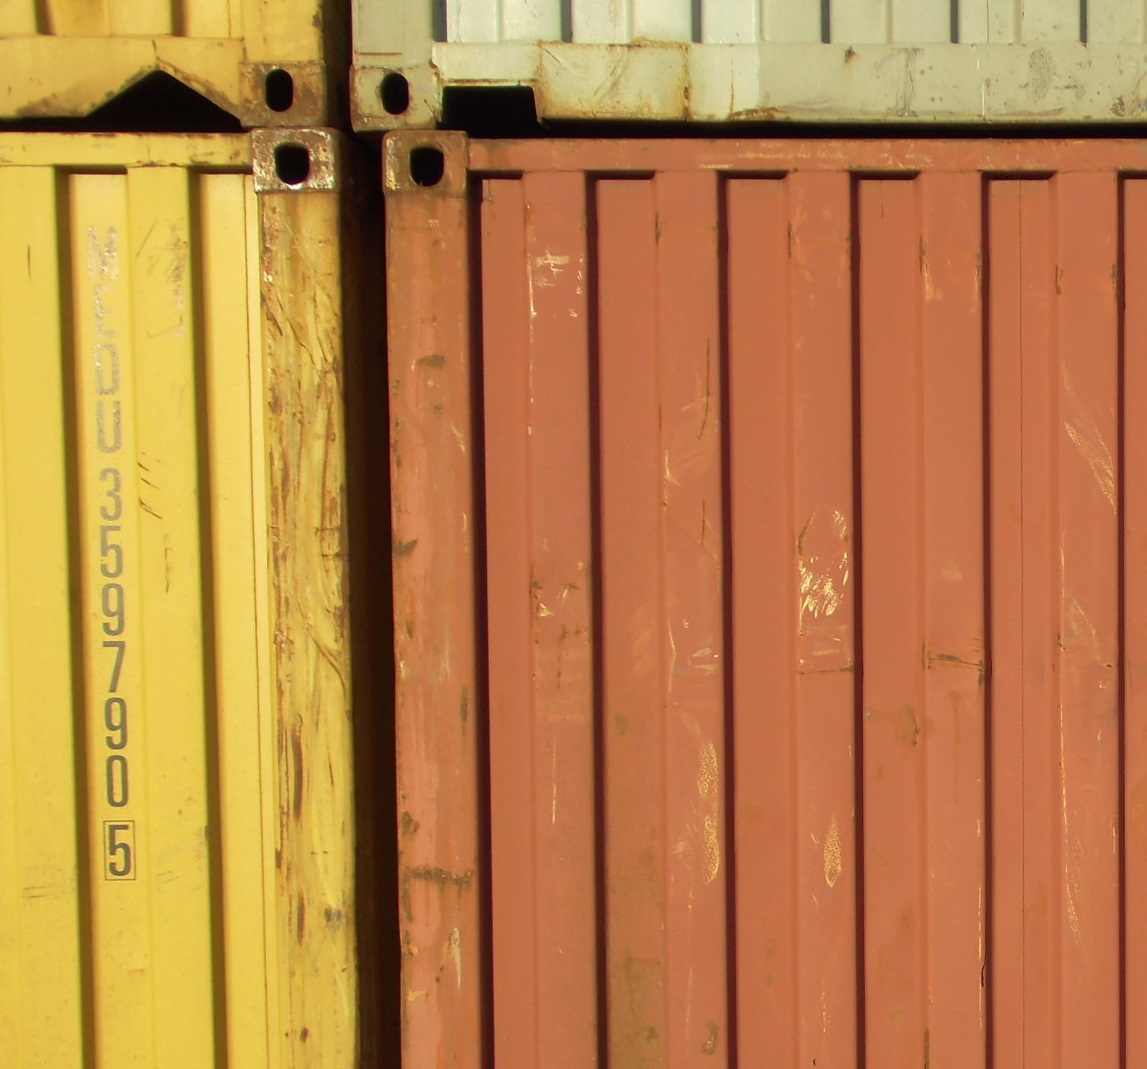container_no_door: (375, 131, 1143, 1060), (1, 125, 366, 1068)
